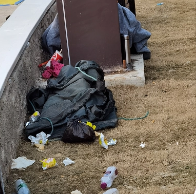garbage: (29, 59, 117, 138), (111, 2, 161, 68), (41, 14, 74, 57), (57, 118, 101, 145), (39, 51, 72, 80), (95, 131, 135, 153), (96, 164, 120, 188), (6, 156, 32, 171), (7, 179, 31, 194), (34, 133, 52, 147), (40, 157, 58, 170), (94, 187, 126, 194), (66, 187, 84, 194)
